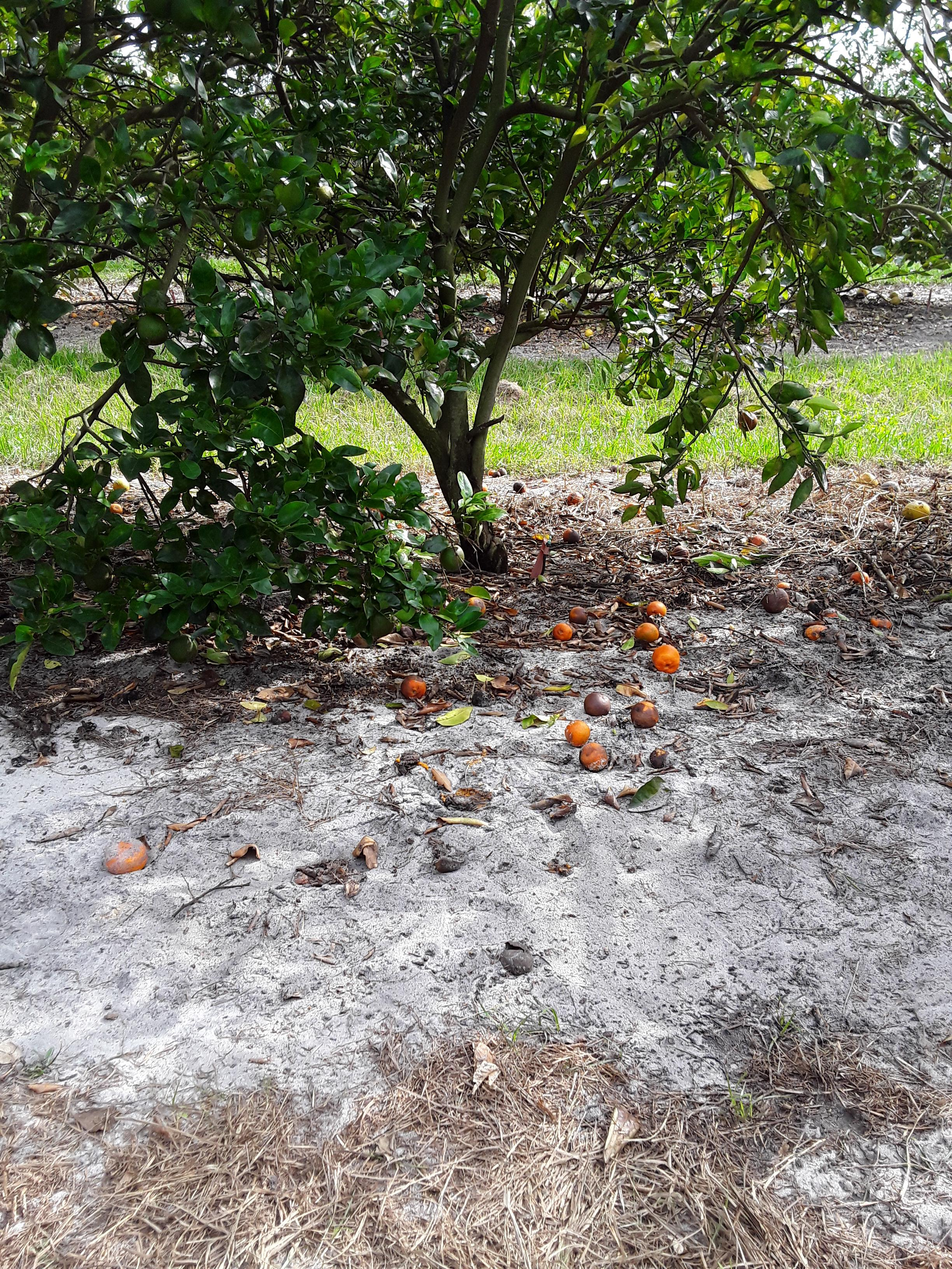fruit_on_ground: (167, 0, 210, 37), (228, 207, 265, 250), (136, 309, 172, 346), (166, 628, 199, 664), (140, 0, 180, 27), (82, 562, 117, 591), (368, 607, 396, 640), (439, 544, 466, 574), (149, 619, 182, 642), (736, 404, 758, 435), (16, 15, 42, 38), (104, 3, 126, 26), (35, 13, 58, 35), (1, 85, 18, 112), (203, 63, 220, 81), (106, 94, 119, 112)
fruit_on_tree: (100, 834, 150, 875), (499, 933, 536, 977), (624, 701, 666, 731), (576, 742, 613, 774), (758, 583, 790, 614), (652, 644, 684, 675), (581, 685, 612, 717), (900, 495, 932, 525), (566, 602, 599, 630), (400, 673, 432, 701), (565, 716, 592, 747), (642, 600, 672, 623), (462, 596, 490, 619), (632, 619, 660, 642), (649, 746, 676, 769), (802, 622, 832, 641), (871, 608, 892, 634), (268, 706, 295, 726), (854, 470, 880, 490), (877, 478, 907, 495), (551, 622, 574, 643), (673, 538, 692, 563), (560, 526, 583, 545), (849, 570, 872, 588), (749, 529, 771, 547), (807, 596, 825, 615), (822, 604, 841, 622), (566, 490, 587, 506), (653, 549, 672, 566), (114, 477, 132, 494), (511, 481, 530, 497), (775, 578, 796, 591), (609, 460, 624, 475), (109, 501, 125, 515), (478, 479, 491, 495), (584, 326, 596, 340), (90, 317, 101, 329), (497, 465, 510, 475), (68, 311, 80, 320), (96, 310, 107, 318), (487, 468, 496, 477), (492, 470, 501, 478)
